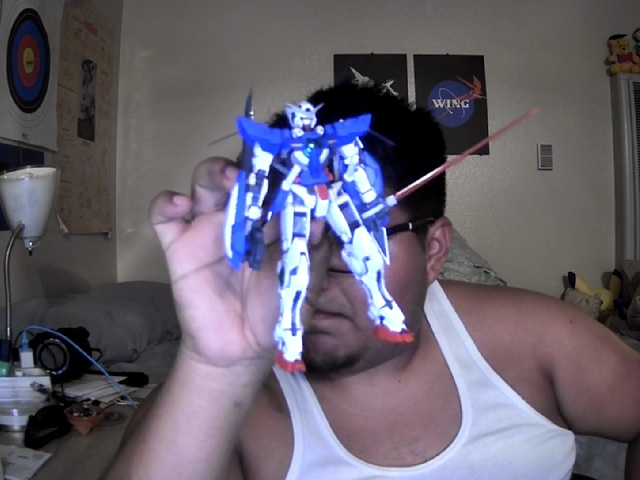Exia: (223, 89, 542, 376)
